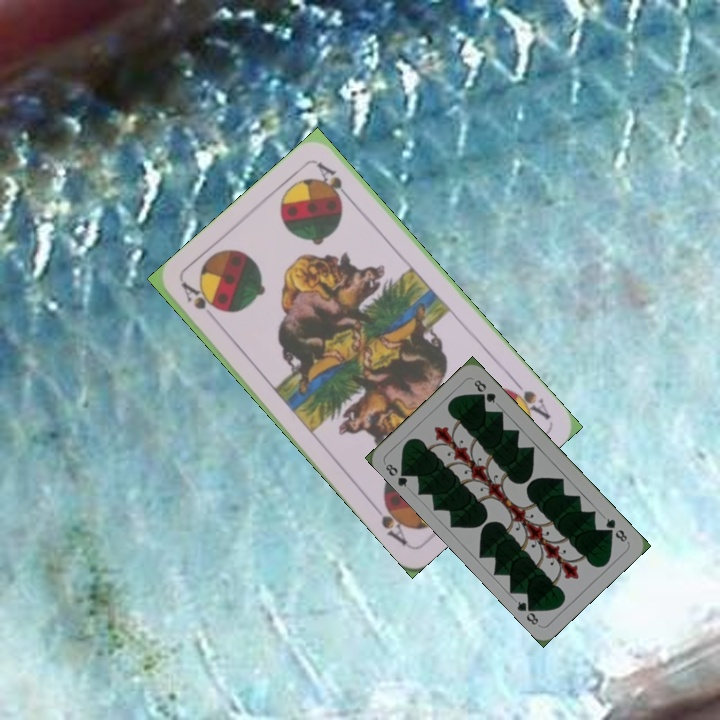G8: (381, 460, 412, 490), (602, 514, 630, 545)
SA: (501, 374, 554, 423), (177, 279, 219, 313)
